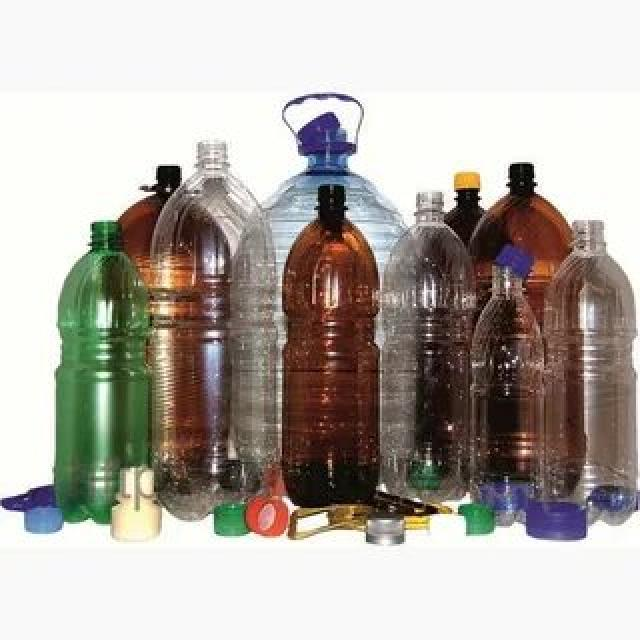brown: (284, 184, 378, 508), (468, 177, 575, 262)
green: (57, 221, 153, 522)
